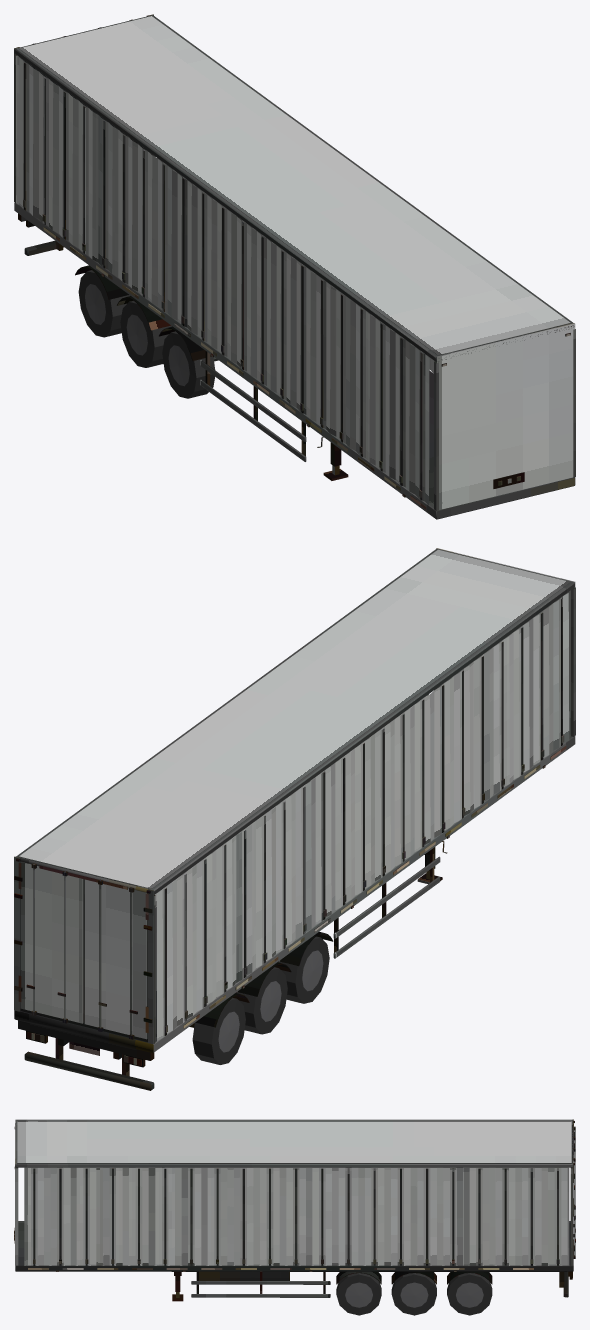
Rendered from auflieger_f.glb.
3 views of the same model, one above another, from view 1: azimuth 30°, elevation 25°; view 2: azimuth 150°, elevation 25°; view 3: azimuth 270°, elevation 25° (orthographic). The views are drawn at different scales.
Parts seen in each view (by area): view 1: koerper, rad_hl; view 2: koerper, rad_hl; view 3: koerper, rad_hl.
Part boxes in pixels (x1=…): koerper: x1=14, y1=14, x2=575, y2=519; rad_hl: x1=78, y1=270, x2=215, y2=398; koerper: x1=14, y1=548, x2=575, y2=1090; rad_hl: x1=192, y1=936, x2=329, y2=1064; koerper: x1=14, y1=1119, x2=575, y2=1301; rad_hl: x1=336, y1=1273, x2=492, y2=1315.
Size of the model in its own units: 2.58 by 3.98 by 13.31.
Materials: 2 (1 with a texture image).
